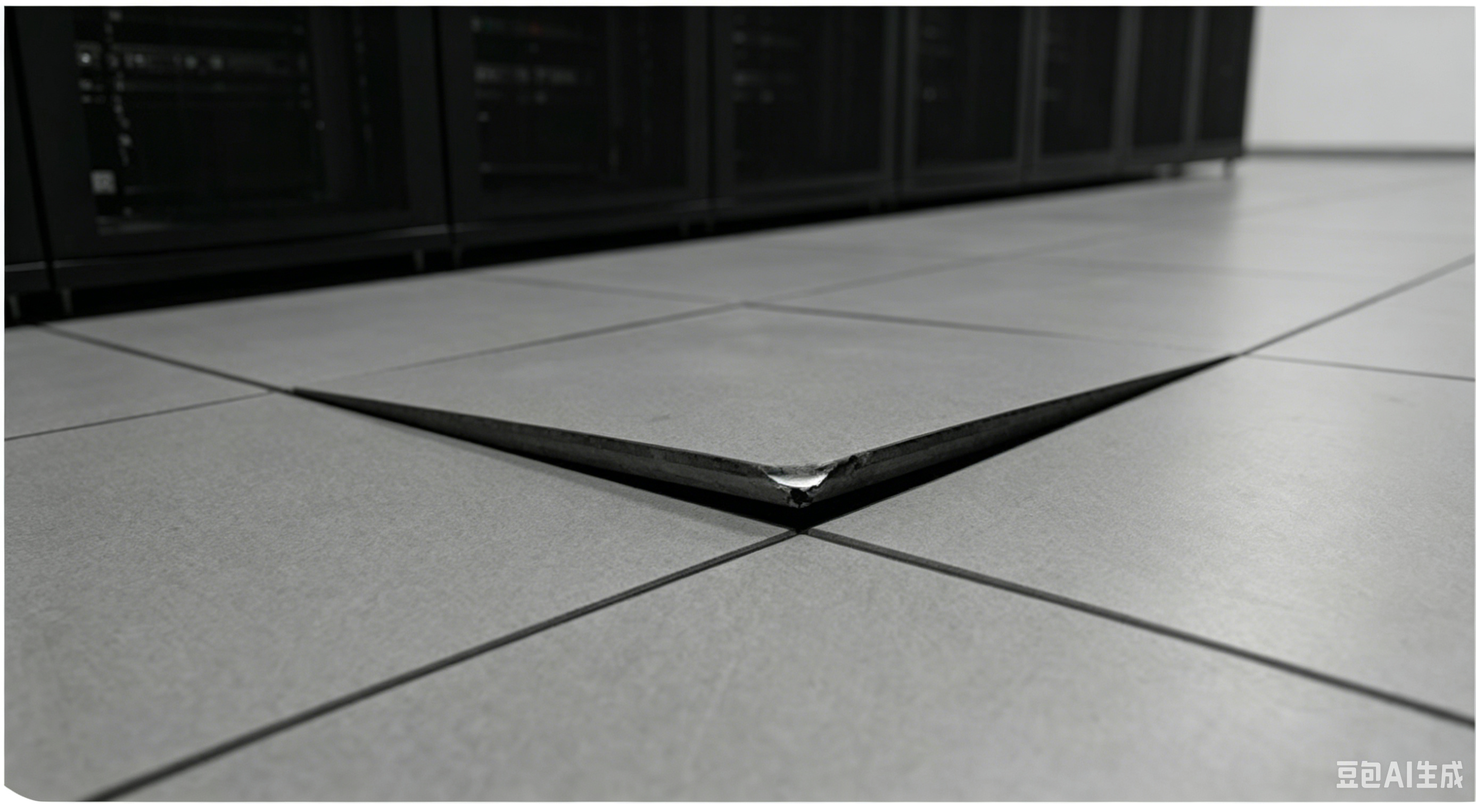floor_defect: (277, 351, 841, 536), (831, 403, 1083, 521), (1040, 342, 1252, 441)
